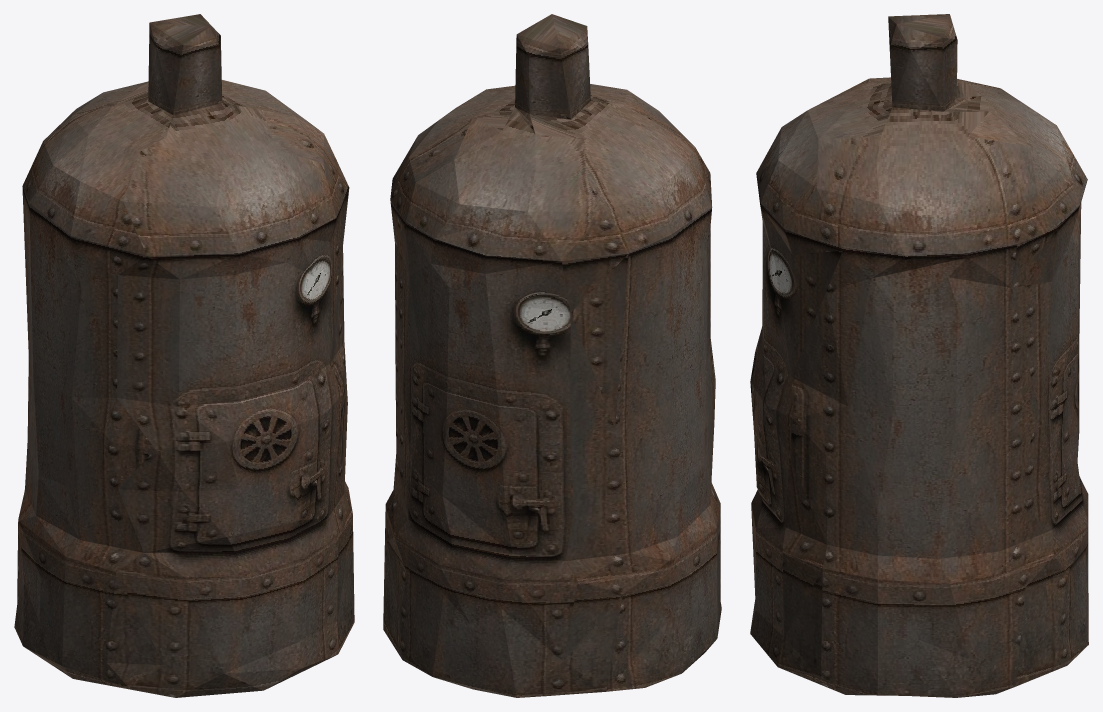
The model's file is boiler_med.glb.
3 views of the same model, side by side, from view 1: azimuth 30°, elevation 25°; view 2: azimuth 150°, elevation 25°; view 3: azimuth 270°, elevation 25° (orthographic).
Visible parts, largest first — view 1: boiler_med; view 2: boiler_med; view 3: boiler_med.
Boxes of the visible parts, x1,y1,x2,y2 form: boiler_med: [14, 14, 354, 697]; boiler_med: [383, 14, 721, 697]; boiler_med: [750, 14, 1088, 697].
Bounding box in the file's own units: 1.17 × 2.39 × 1.17.
1 material, 1 textured.
